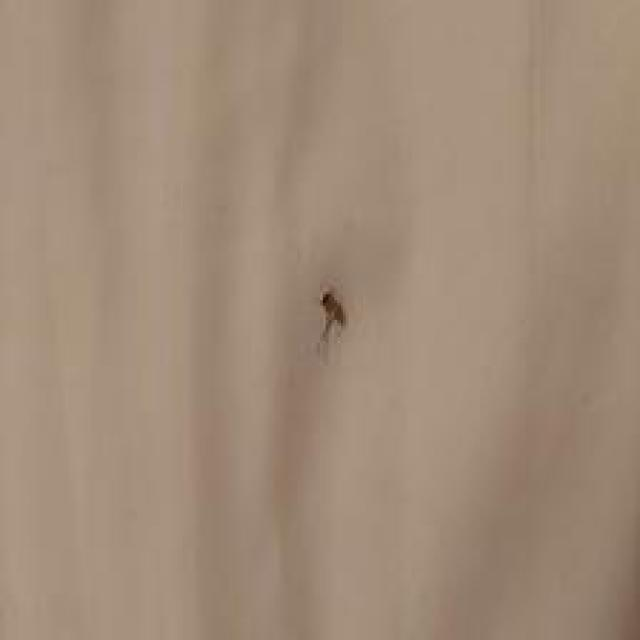Culex: (316, 286, 347, 346)
